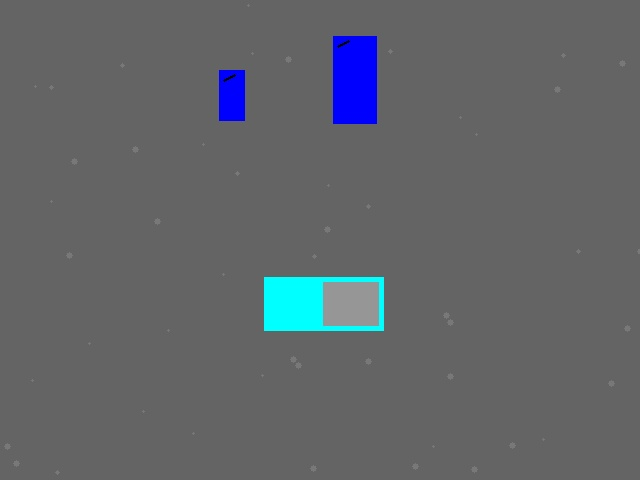motorcycle: (333, 36, 376, 123), (219, 70, 244, 120)
truck: (264, 277, 383, 330)
